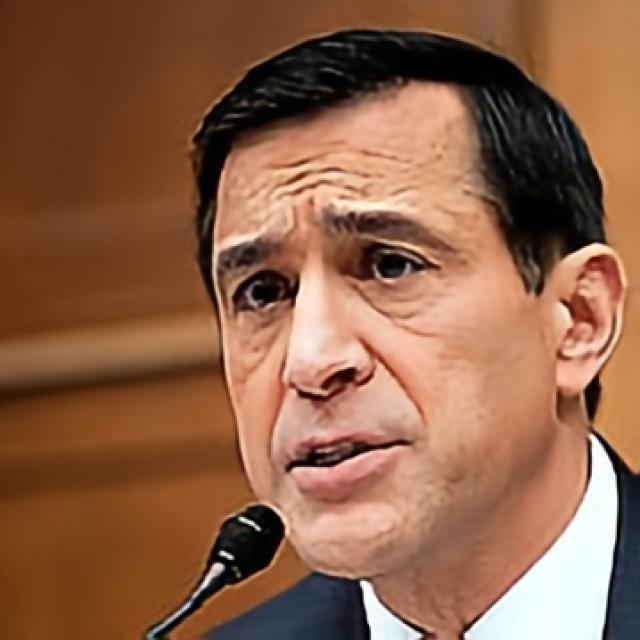sad: (207, 78, 550, 582)
